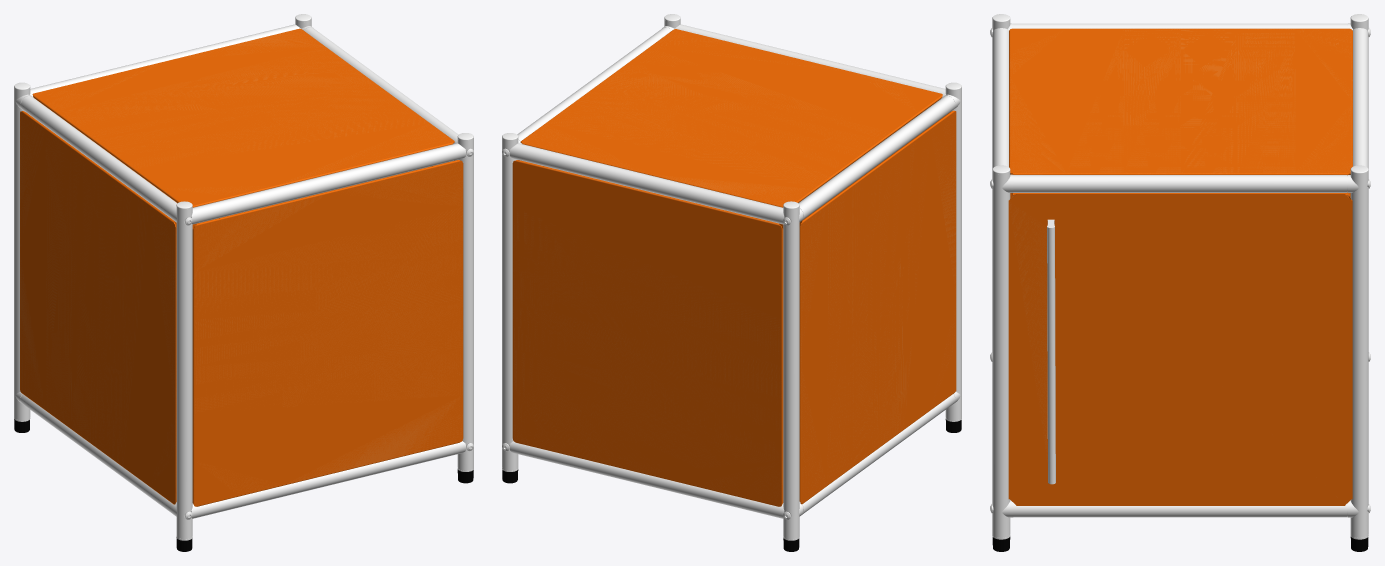
The model's file is 40x40x40-2-4-orange.glb.
The picture shows the model from 3 angles, left to right: view 1: azimuth 30°, elevation 25°; view 2: azimuth 150°, elevation 25°; view 3: azimuth 270°, elevation 25°; orthographic projection. The views are drawn at different scales.
Parts seen in each view (by area): view 1: 直角鐵板-40x40-2 - 零件, 直角鐵板-40x40-4 - 零件, 直角鐵板-40x40-5 - 零件, 鐵管-1層-40-正常腳-32mm-5 - 零件, 消水孔鐵管-40深-2 - 零件, 鐵管-1層-40-正常腳-32mm-4 - 零件, 消水孔鐵管-40深-1 - 零件, 反-鐵管-40-354..4-18 - 零件, 鏡射鐵管-1層-40-正常腳-32mm-2 - 零件, 反-鐵管-40-354..4-15 - 零件, 鏡射消水孔鐵管-40深-2 - 零件, 反-鐵管-40-354..4-17 - 零件; view 2: object 43, 直角鐵板-40x40-4 - 零件, 直角鐵板-40x40-5 - 零件, 鏡射鐵管-1層-40-正常腳-32mm-2 - 零件, 鏡射消水孔鐵管-40深-2 - 零件, 鏡射鐵管-1層-40-正常腳-32mm-1 - 零件, 鏡射消水孔鐵管-40深-1 - 零件, 反-鐵管-40-354..4-18 - 零件, 鐵管-1層-40-正常腳-32mm-5 - 零件, 消水孔鐵管-40深-2 - 零件, 反-鐵管-40-354..4-15 - 零件, 反-鐵管-40-354..4-17 - 零件; view 3: object 25, 直角鐵板-40x40-5 - 零件, 鐵管-1層-40-正常腳-32mm-4 - 零件, 鏡射鐵管-1層-40-正常腳-32mm-1 - 零件, 反-鐵管-40-354..4-17 - 零件, 反-鐵管-40-354..4-1 - 零件, 消水孔鐵管-40深-2 - 零件, 鏡射消水孔鐵管-40深-2 - 零件, 反-鐵管-40-354..4-18 - 零件.
Boxes of the visible parts, x1,y1,x2,y2 form: 直角鐵板-40x40-2 - 零件: [192, 160, 463, 506]; 直角鐵板-40x40-4 - 零件: [20, 111, 176, 504]; 直角鐵板-40x40-5 - 零件: [32, 28, 454, 207]; 鐵管-1層-40-正常腳-32mm-5 - 零件: [176, 207, 192, 539]; 消水孔鐵管-40深-2 - 零件: [191, 143, 465, 224]; 鐵管-1層-40-正常腳-32mm-4 - 零件: [457, 138, 473, 470]; 消水孔鐵管-40深-1 - 零件: [191, 441, 465, 518]; 反-鐵管-40-354..4-18 - 零件: [20, 96, 177, 219]; 鏡射鐵管-1層-40-正常腳-32mm-2 - 零件: [14, 88, 30, 420]; 反-鐵管-40-354..4-15 - 零件: [20, 394, 173, 513]; 鏡射消水孔鐵管-40深-2 - 零件: [30, 24, 300, 97]; 反-鐵管-40-354..4-17 - 零件: [304, 27, 458, 144]; object 43: [512, 160, 783, 506]; 直角鐵板-40x40-4 - 零件: [799, 110, 956, 504]; 直角鐵板-40x40-5 - 零件: [520, 29, 942, 207]; 鏡射鐵管-1層-40-正常腳-32mm-2 - 零件: [783, 206, 799, 539]; 鏡射消水孔鐵管-40深-2 - 零件: [509, 143, 784, 224]; 鏡射鐵管-1層-40-正常腳-32mm-1 - 零件: [502, 138, 518, 470]; 鏡射消水孔鐵管-40深-1 - 零件: [509, 441, 784, 518]; 反-鐵管-40-354..4-18 - 零件: [798, 96, 955, 219]; 鐵管-1層-40-正常腳-32mm-5 - 零件: [945, 88, 961, 420]; 消水孔鐵管-40深-2 - 零件: [675, 24, 945, 98]; 反-鐵管-40-354..4-15 - 零件: [799, 394, 955, 513]; 反-鐵管-40-354..4-17 - 零件: [517, 27, 671, 141]; object 25: [1008, 192, 1352, 505]; 直角鐵板-40x40-5 - 零件: [1009, 28, 1352, 174]; 鐵管-1層-40-正常腳-32mm-4 - 零件: [992, 171, 1010, 537]; 鏡射鐵管-1層-40-正常腳-32mm-1 - 零件: [1350, 171, 1368, 537]; 反-鐵管-40-354..4-17 - 零件: [1013, 175, 1347, 192]; 反-鐵管-40-354..4-1 - 零件: [1013, 503, 1347, 517]; 消水孔鐵管-40深-2 - 零件: [992, 28, 1008, 168]; 鏡射消水孔鐵管-40深-2 - 零件: [1352, 28, 1368, 180]; 反-鐵管-40-354..4-18 - 零件: [1013, 23, 1347, 28].
Size of the model in its own units: 0.4202 by 0.4452 by 0.4035.
